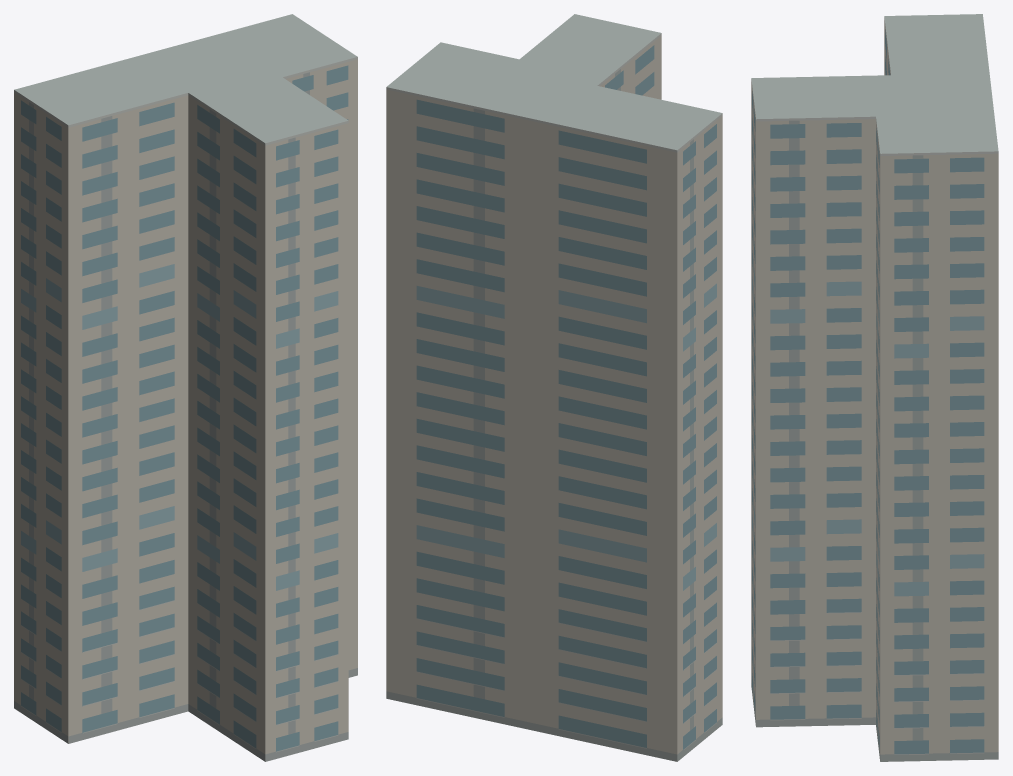
The model's file is residential-fae13b63-eff6-41cd-9fa6-1ef0327c5c29.glb.
The picture shows the model from 3 angles, left to right: view 1: azimuth 30°, elevation 25°; view 2: azimuth 150°, elevation 25°; view 3: azimuth 270°, elevation 25°; orthographic projection.
Visible parts, largest first — view 1: residential-fae13b63-eff6-41cd-9fa6-1ef0327c5c29.tmp; view 2: residential-fae13b63-eff6-41cd-9fa6-1ef0327c5c29.tmp; view 3: residential-fae13b63-eff6-41cd-9fa6-1ef0327c5c29.tmp.
Part boxes in pixels (x1,y1,x2,y2): residential-fae13b63-eff6-41cd-9fa6-1ef0327c5c29.tmp: (14,14,357,761); residential-fae13b63-eff6-41cd-9fa6-1ef0327c5c29.tmp: (386,14,722,761); residential-fae13b63-eff6-41cd-9fa6-1ef0327c5c29.tmp: (751,14,998,761).
Bounding box in the file's own units: 31.58 × 64 × 23.59.
